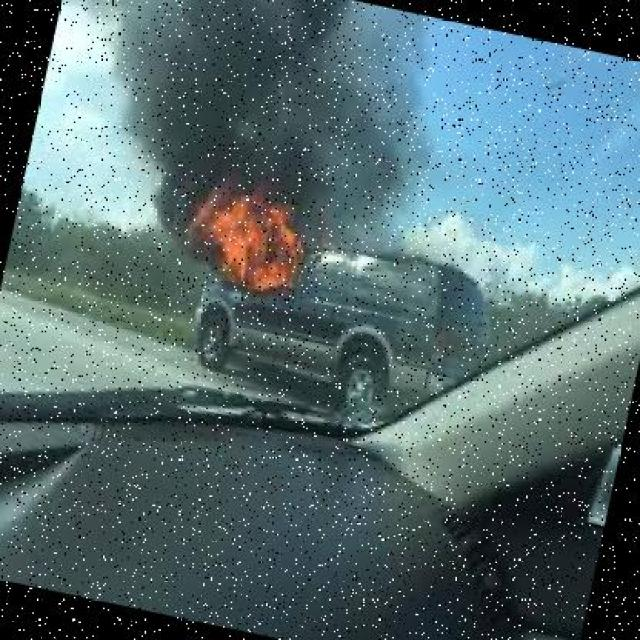fire: (154, 163, 323, 306)
